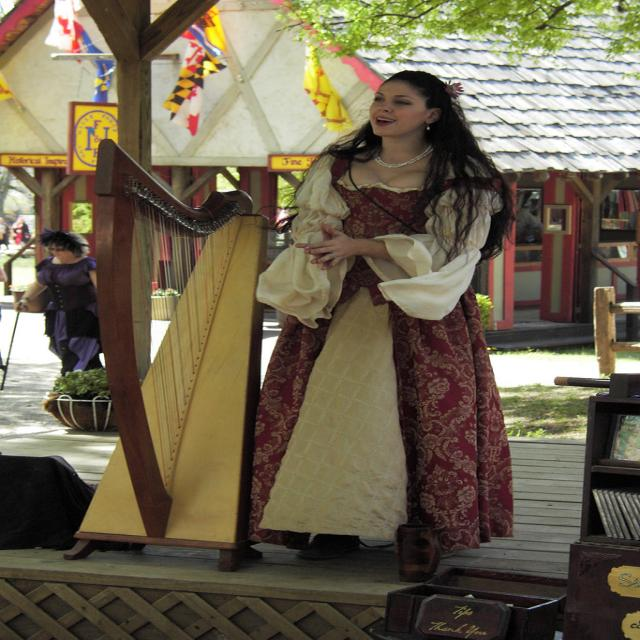harp: (58, 135, 286, 582)
